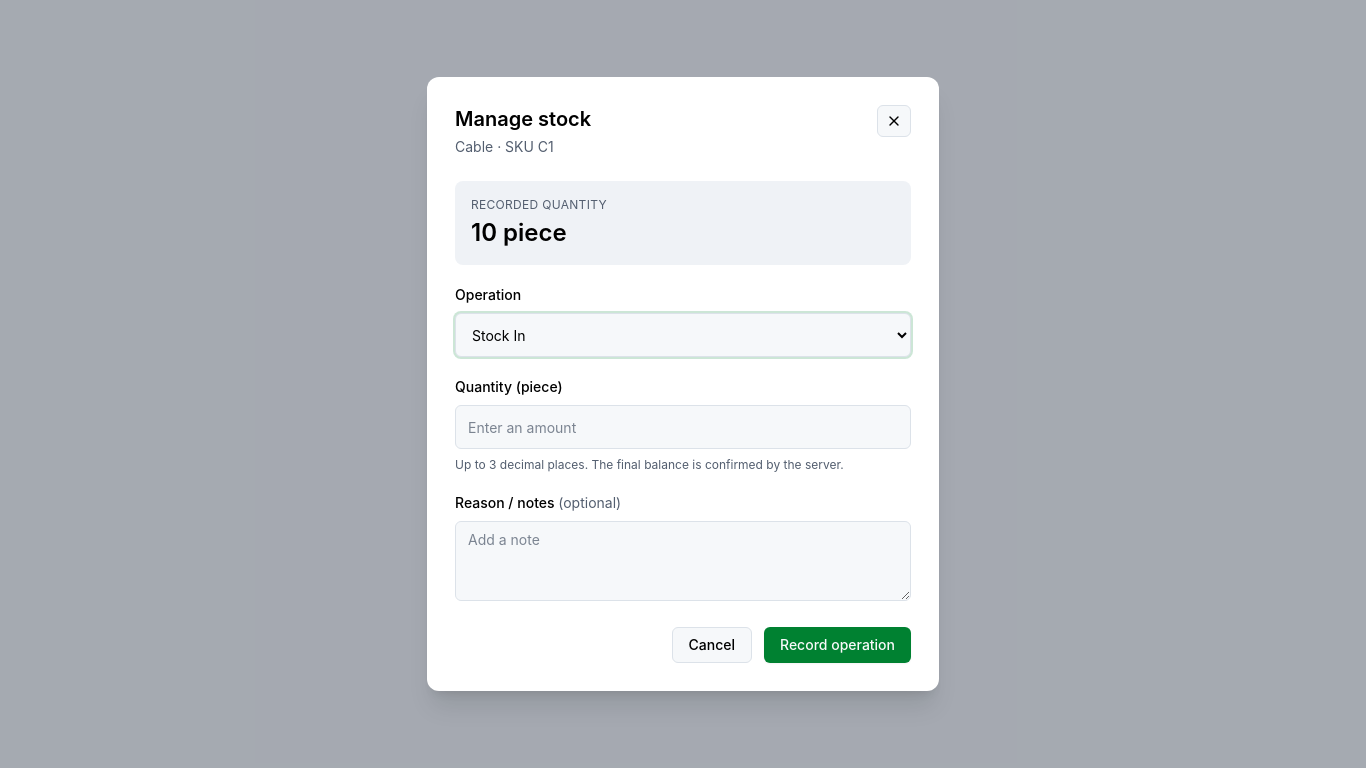
Test: StockOperationDialog › shows friendly insufficient-stock feedback and preserves the form
Select "Stock Out" in the dropdown labelled "Operation". click: (683, 335)
box: top-left (455, 313), bottom-right (911, 357)
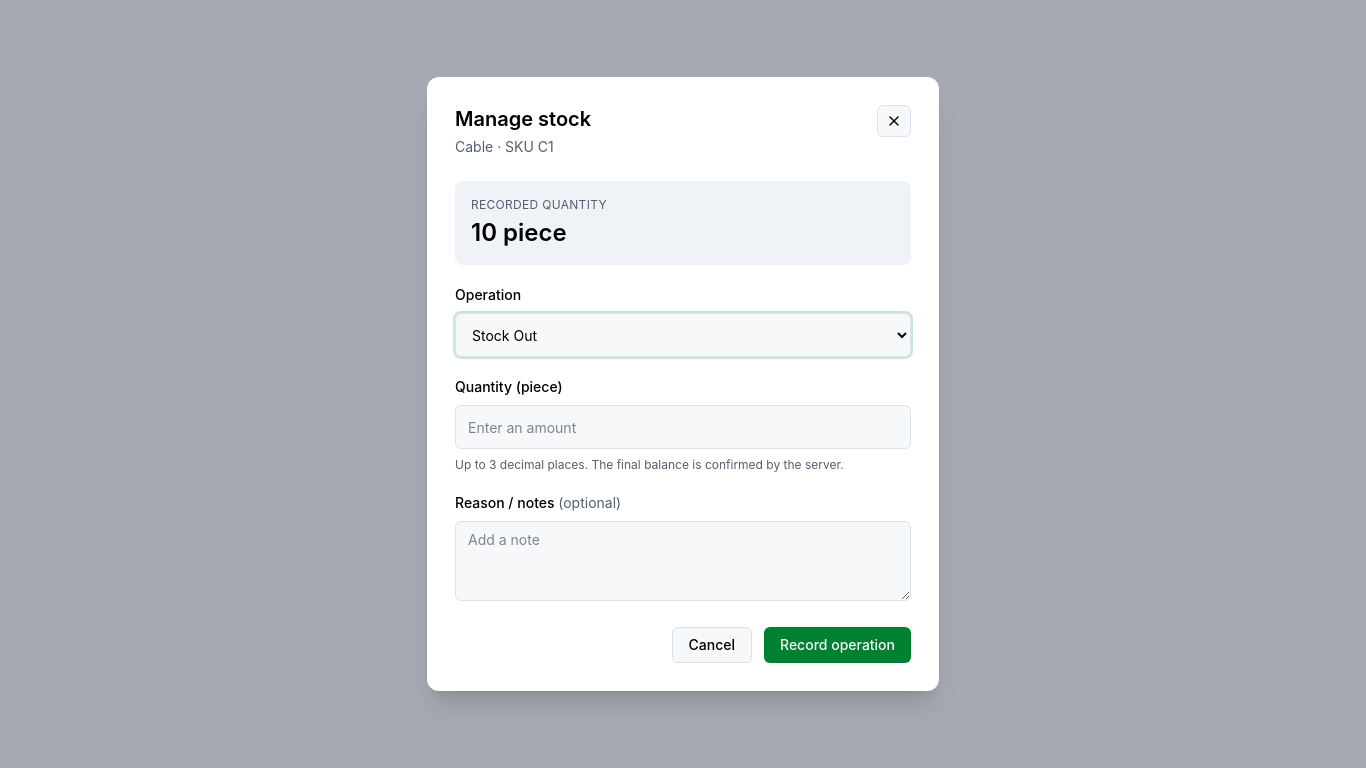
Type "3" into the field labelled "Quantity (piece)". click: (683, 427)
box: top-left (455, 405), bottom-right (911, 449)
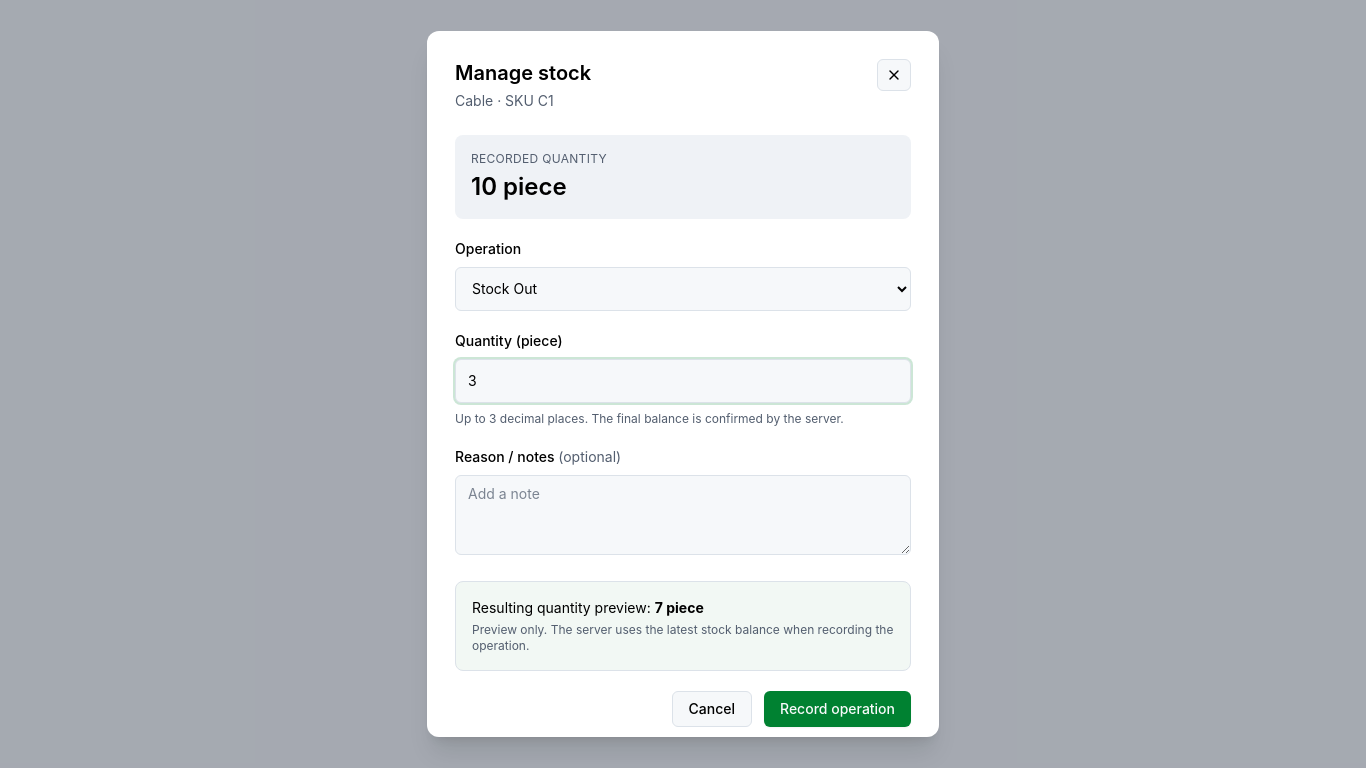
Click the button "Record operation". click: (838, 709)
box: top-left (764, 691), bottom-right (911, 727)
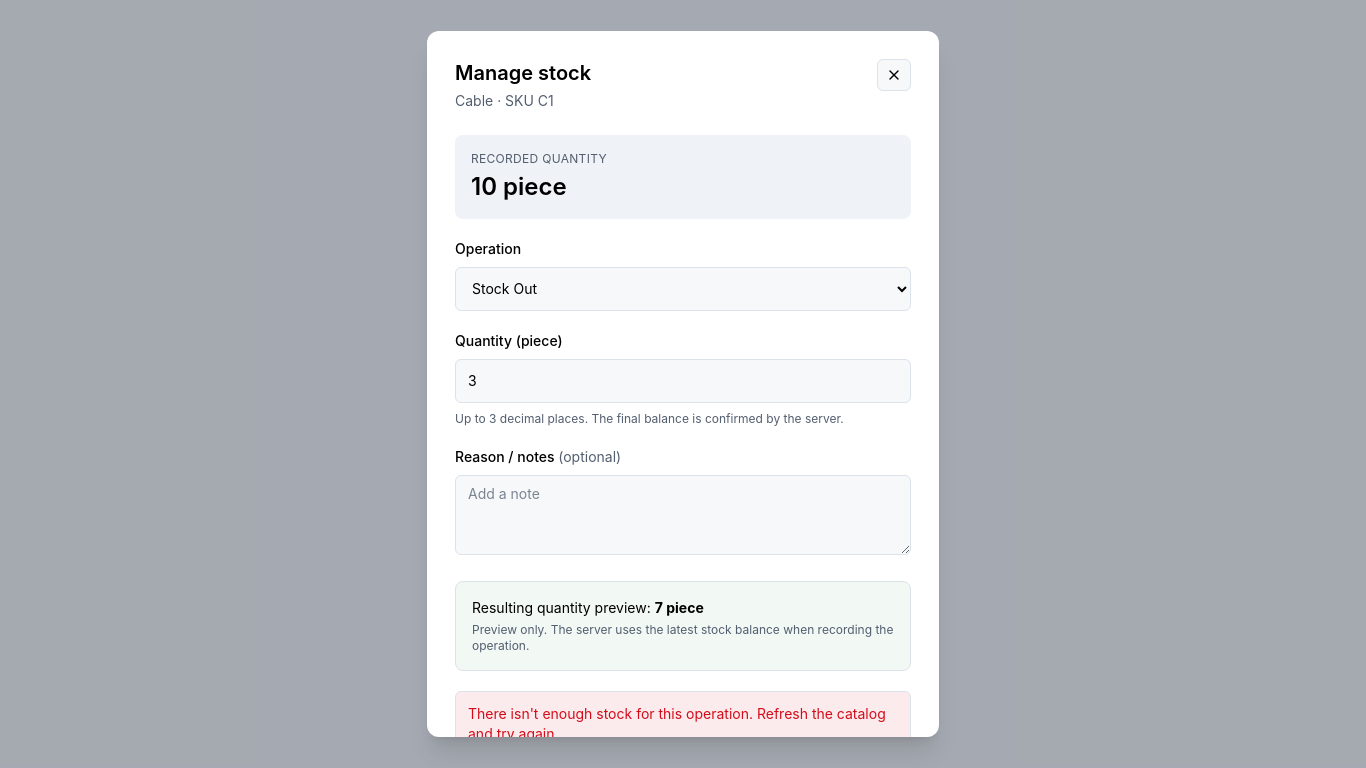
Check: the message shows "isn't enough stock", box top-left (468, 705), bottom-right (886, 737)
